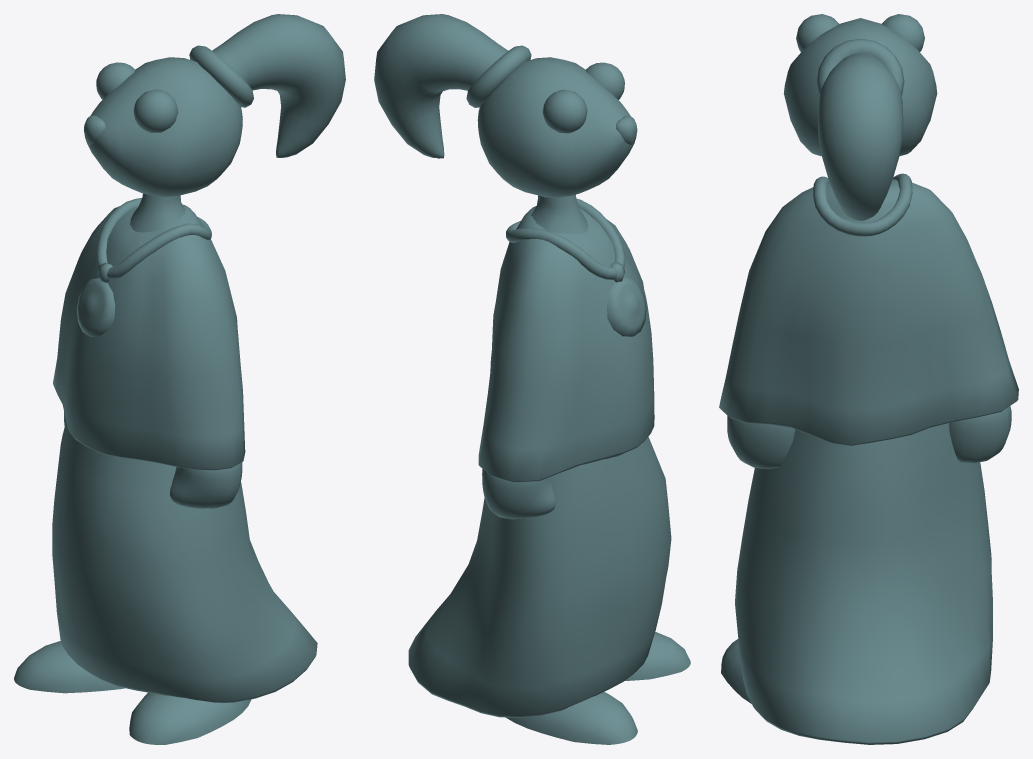
The model's file is CA_048_twinsen_statue.glb.
3 renders of one model, left to right at view 1: azimuth 30°, elevation 25°; view 2: azimuth 150°, elevation 25°; view 3: azimuth 270°, elevation 25°, orthographic. The views are drawn at different scales.
Visible parts, largest first — view 1: tunic_bottom, tunic_top, head, ponytail, medallion, foot_left, foot_right, hands; view 2: tunic_bottom, tunic_top, head, ponytail, medallion, foot_right, hands, foot_left; view 3: tunic_bottom, tunic_top, ponytail, head, hands, medallion, foot_left.
Part boxes in pixels (box(x1,y1,x2,y2)): tunic_bottom: box(52, 421, 317, 702); tunic_top: box(53, 193, 245, 470); head: box(84, 57, 242, 197); ponytail: box(189, 14, 345, 157); medallion: box(76, 198, 211, 336); foot_left: box(129, 692, 251, 744); foot_right: box(14, 641, 124, 693); hands: box(64, 411, 242, 508); tunic_bottom: box(408, 437, 671, 717); tunic_top: box(478, 194, 654, 482); head: box(477, 57, 637, 197); ponytail: box(374, 14, 531, 158); medallion: box(506, 198, 646, 336); foot_right: box(506, 691, 637, 744); hands: box(482, 469, 555, 519); foot_left: box(625, 632, 690, 680); tunic_bottom: box(735, 423, 992, 744); tunic_top: box(719, 179, 1018, 445); ponytail: box(816, 39, 904, 221); head: box(783, 14, 937, 156); hands: box(727, 406, 1011, 469); medallion: box(813, 173, 912, 236); foot_left: box(721, 639, 751, 703).
Bounding box in the file's own units: 1.17 × 2.46 × 0.9754.
